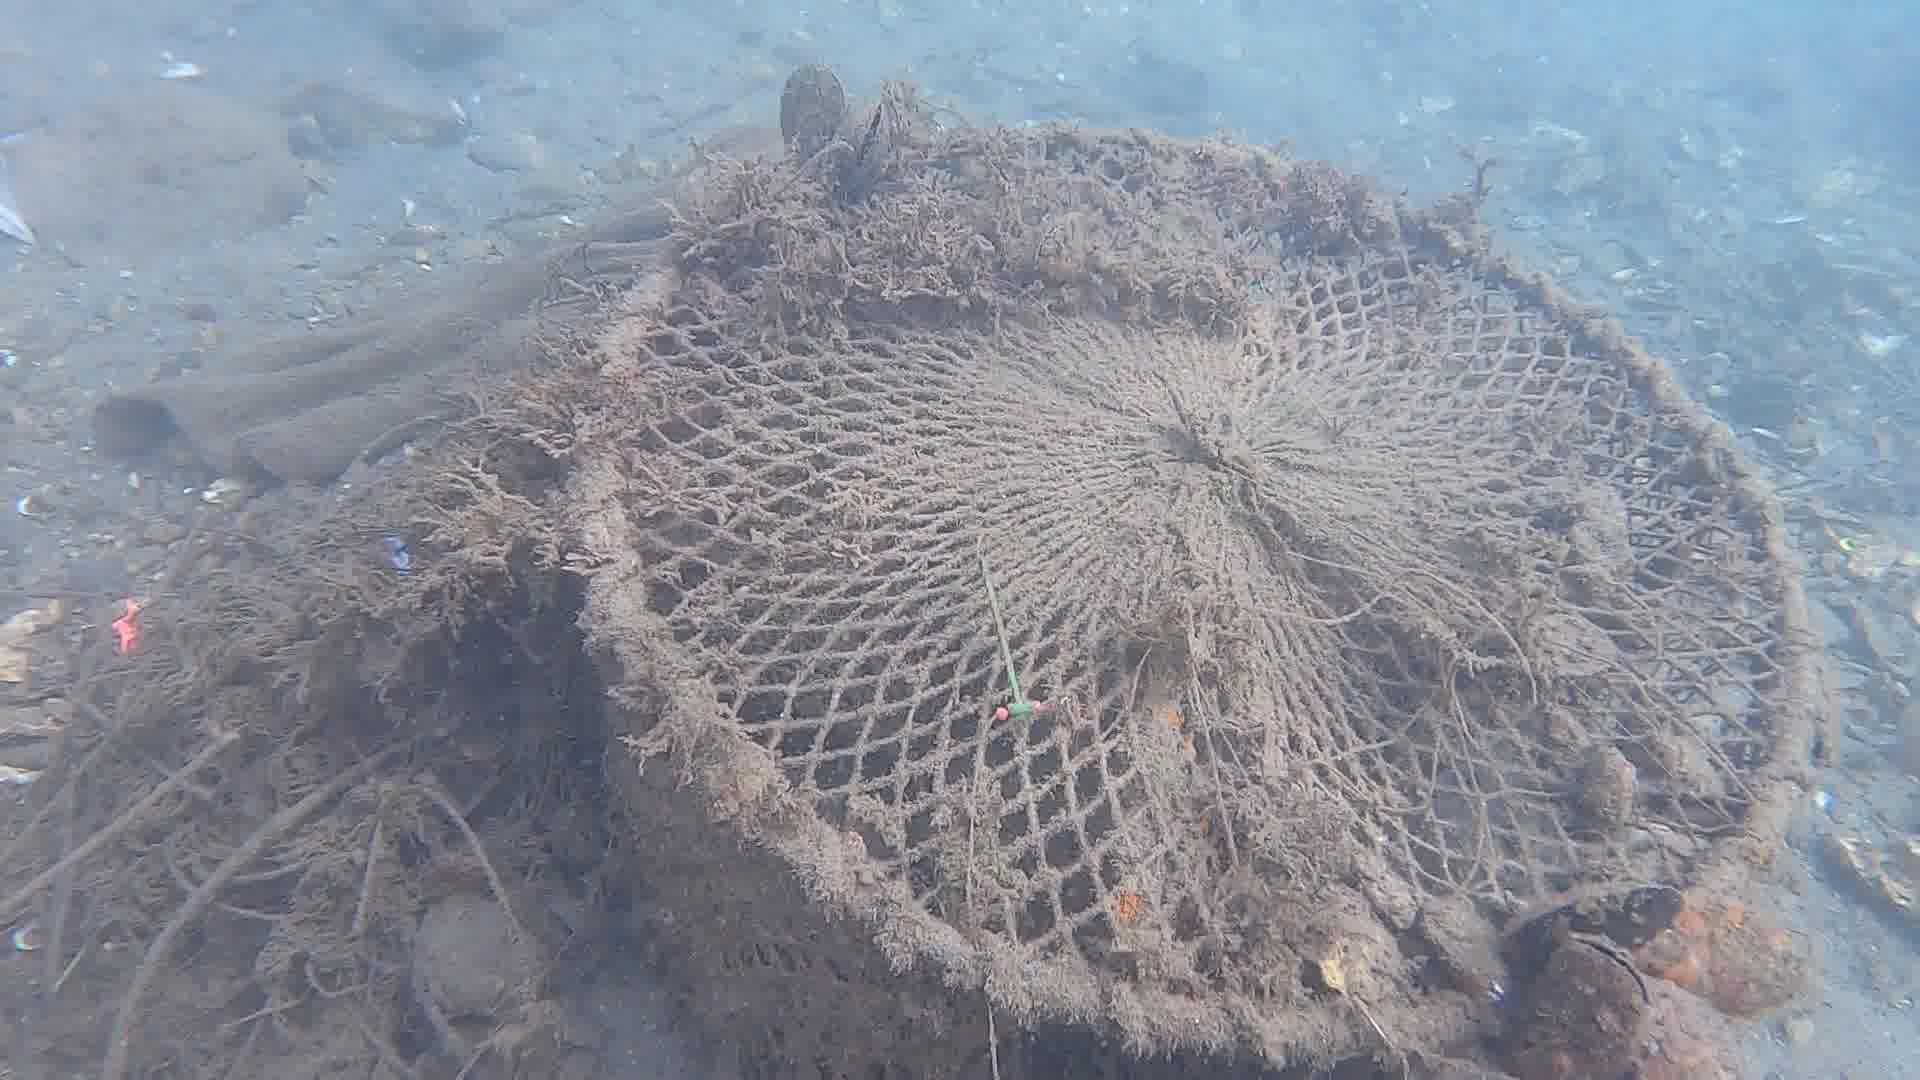circular fish trap: (570, 123, 1815, 1080)
